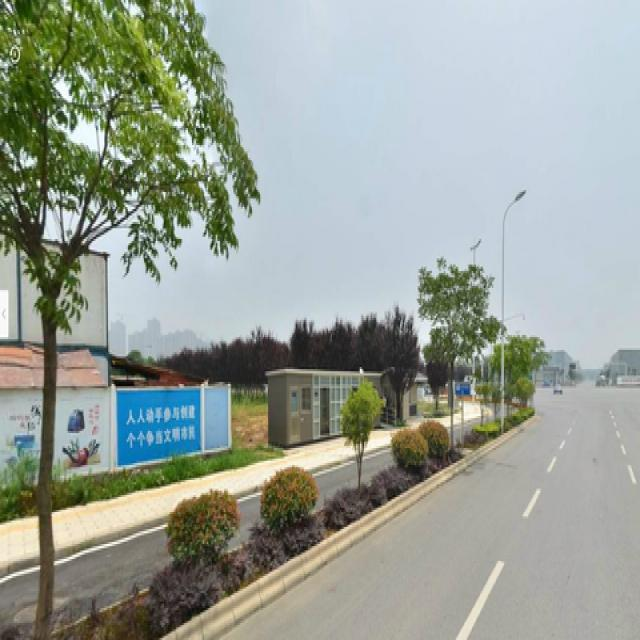sali: (422, 264, 474, 454)
